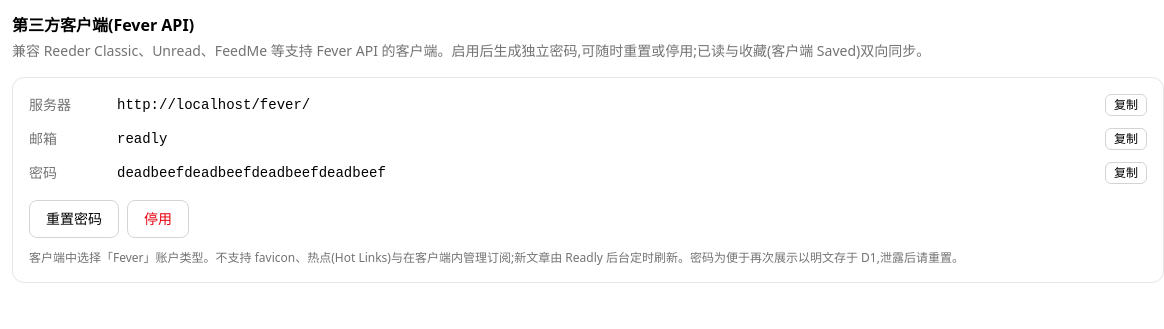
FeverSettings › 重置生成新密码;停用写入 null 并回到未启用态
Click the button "重置密码" at (74, 219), box 29,200 -> 119,238
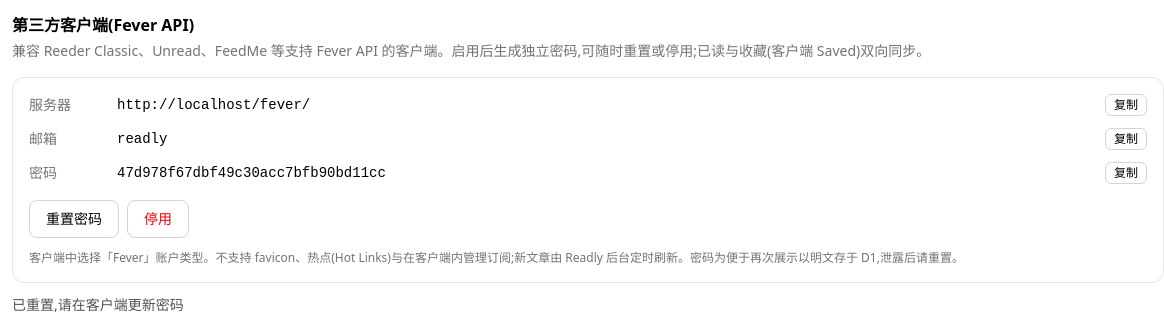
Click the button "停用" at (158, 219), box 127,200 -> 189,238
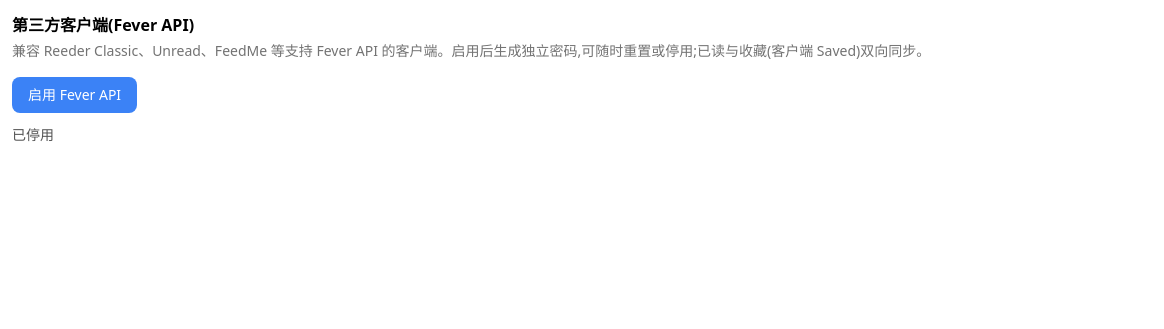
Expected: the button "启用 Fever API" is shown, 12,77 -> 137,113
